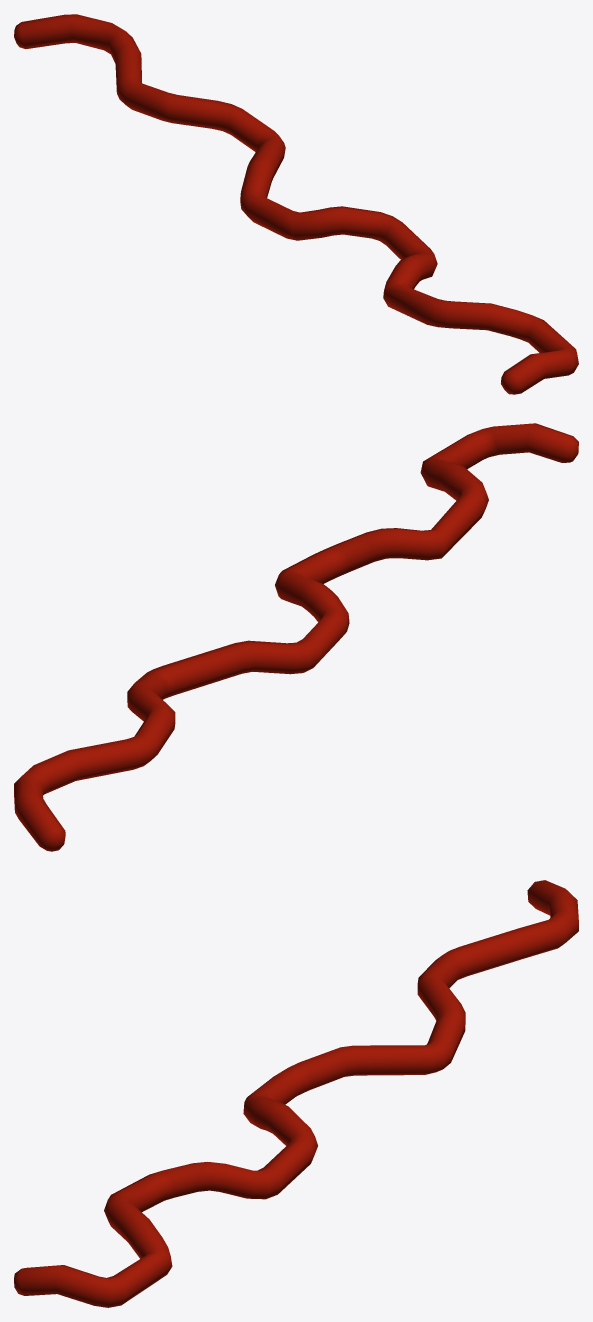
The model's file is hotdog_sauce.fbx.
3 views of the same model, one above another, from view 1: azimuth 30°, elevation 25°; view 2: azimuth 150°, elevation 25°; view 3: azimuth 330°, elevation 25° (orthographic). The views are drawn at different scales.
Parts seen in each view (by area): view 1: HotDogSauce; view 2: HotDogSauce; view 3: HotDogSauce.
Part boxes in pixels (left/top/right/bottom): HotDogSauce: left=14, top=14, right=578, bottom=394; HotDogSauce: left=14, top=423, right=578, bottom=851; HotDogSauce: left=14, top=880, right=578, bottom=1307.
Size of the model in its own units: 8.64 by 3.51 by 71.62.
